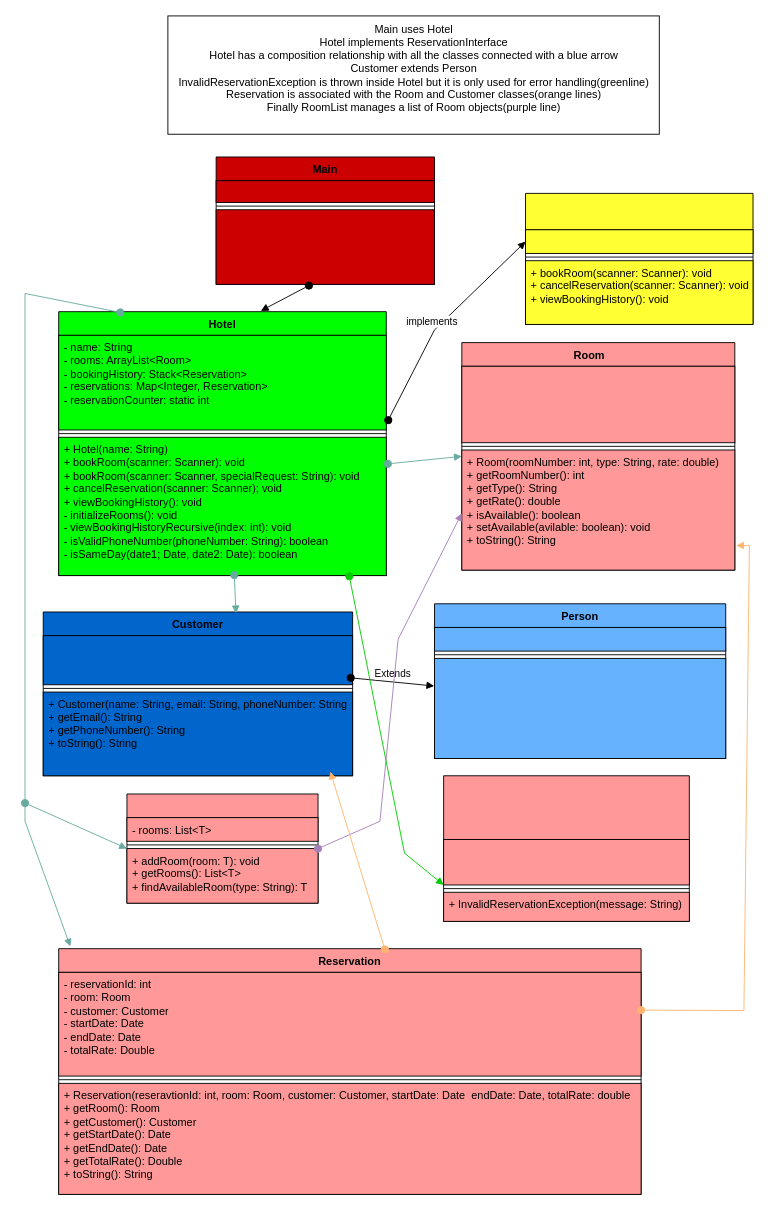
This 775x1213 diagram has some shape labels left out. Each missing label, with the box of its shape:
+ main(args: String[]): void: (215, 209, 435, 284)
+ Person(name: String) + getName(): String: (434, 657, 726, 758)
- email: String - phoneNumber: String: (42, 635, 353, 685)
- name: String: (434, 627, 726, 651)
- roomNumber: int - type: String - rate: double - isAvailable: boolean: (461, 365, 735, 443)
<<exception>> InvalidReservationException: (443, 775, 689, 921)
<<interface>> ReservationInterface: (525, 192, 753, 324)
RoomList<T>: (126, 793, 318, 903)
